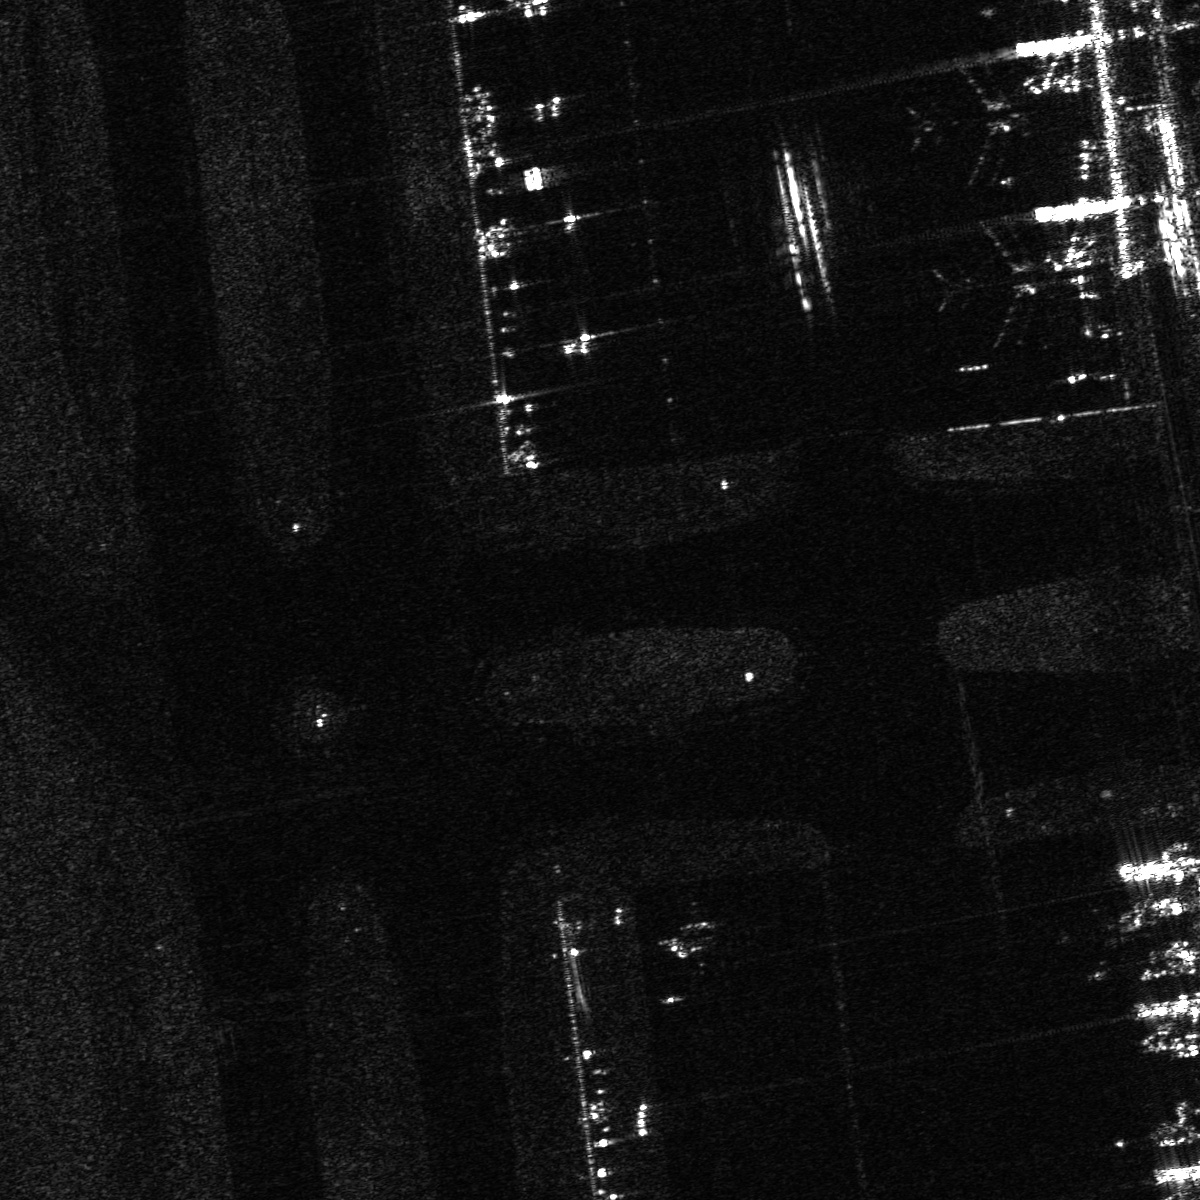A330: (938, 221, 1057, 352)
Boeing787: (907, 64, 1027, 190)
